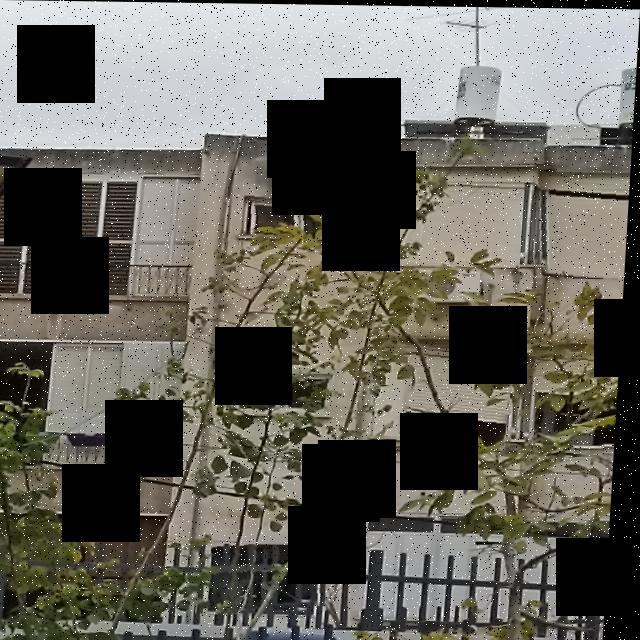Window: (376, 175, 527, 266), (398, 338, 518, 449), (530, 176, 632, 278), (199, 542, 335, 614), (538, 348, 624, 456), (250, 190, 357, 238), (228, 374, 345, 416)
